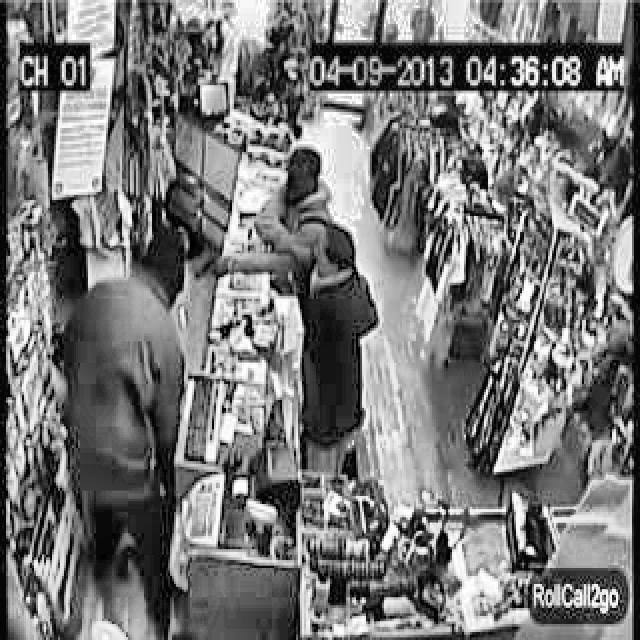robbery: (192, 150, 378, 484)
